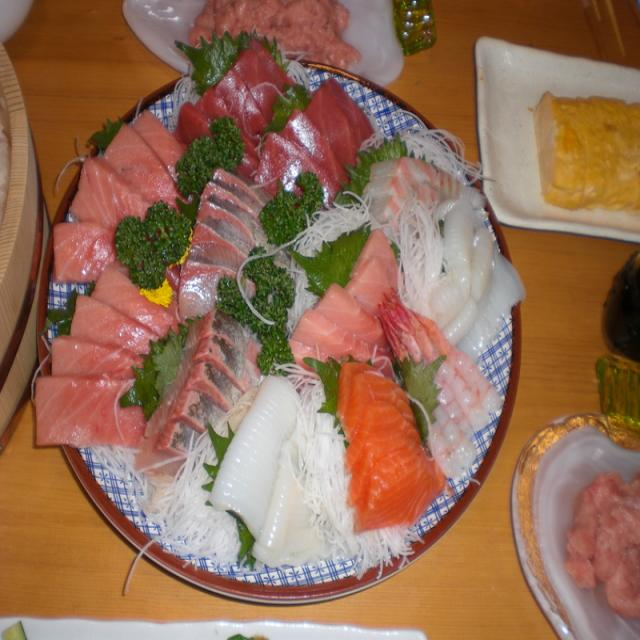刺身生食: (0, 0, 575, 636)
